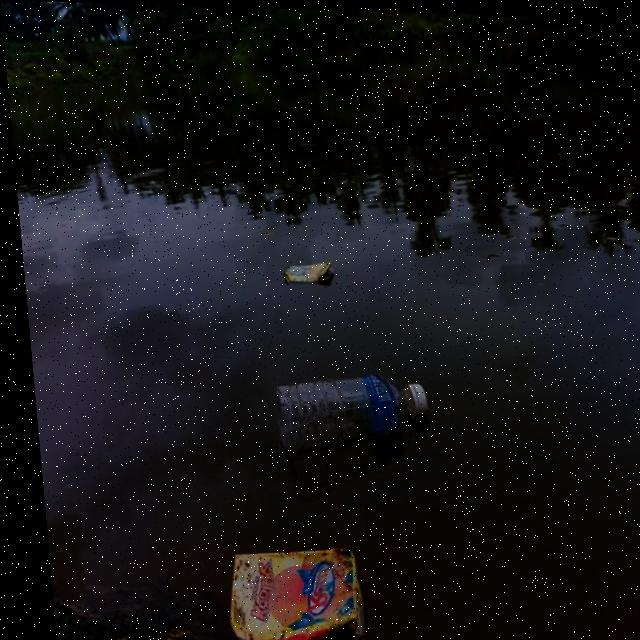paper: (205, 530, 364, 640), (267, 247, 330, 305)
waterbottle: (255, 361, 441, 448)
